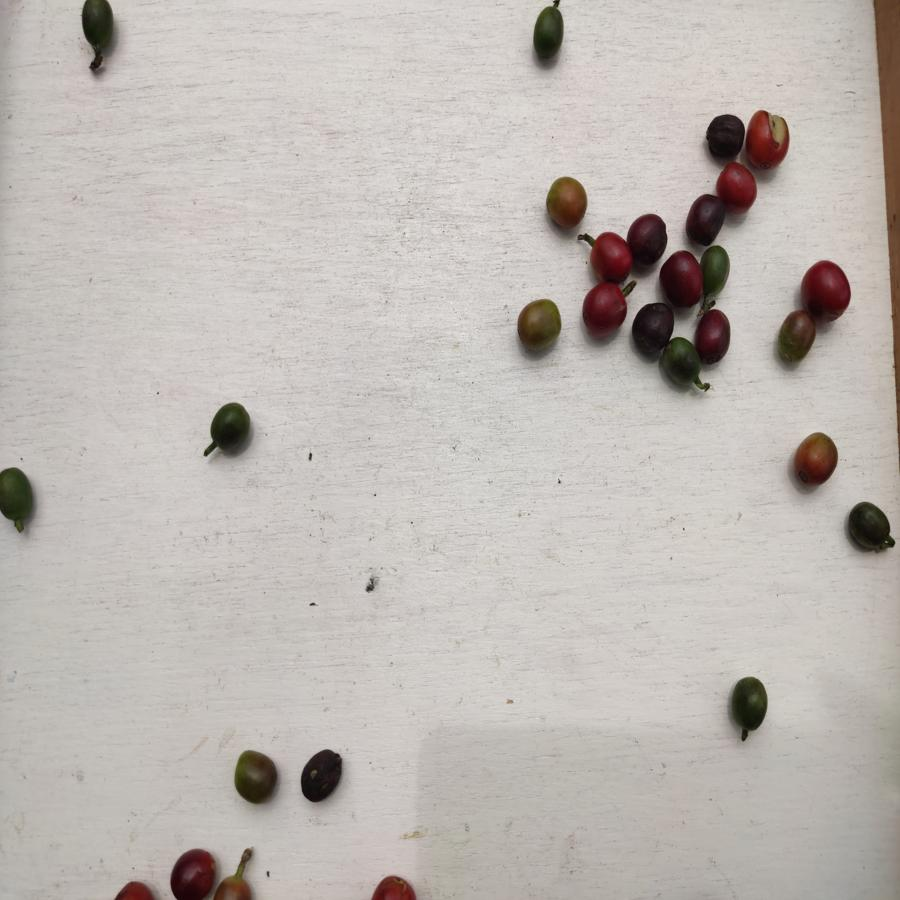Inmaduro: (844, 501, 892, 558), (207, 402, 254, 456), (526, 5, 568, 62), (728, 675, 769, 732), (1, 464, 35, 528), (664, 338, 702, 392), (701, 244, 733, 307)
Maduro: (801, 260, 849, 323), (746, 108, 792, 170), (583, 282, 627, 337), (590, 231, 628, 286), (722, 164, 758, 213), (369, 875, 423, 900), (112, 879, 154, 900)
Pinton: (789, 428, 842, 491), (515, 293, 564, 358), (229, 750, 279, 810), (544, 176, 589, 233), (776, 315, 816, 363), (218, 869, 254, 900)
Sobremaduro: (167, 846, 218, 900), (298, 750, 343, 801), (662, 250, 702, 306), (701, 114, 745, 162), (627, 213, 666, 266), (695, 306, 731, 363), (684, 194, 724, 245), (631, 301, 669, 354)
